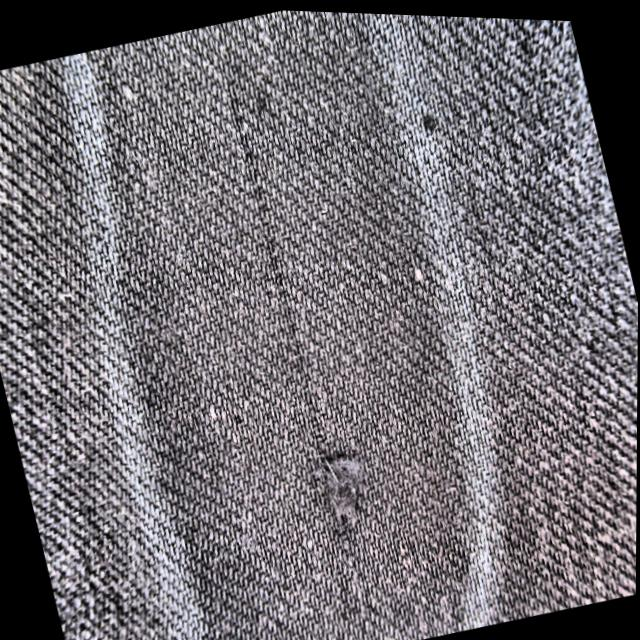Hole: (224, 94, 367, 525), (421, 110, 436, 130)
